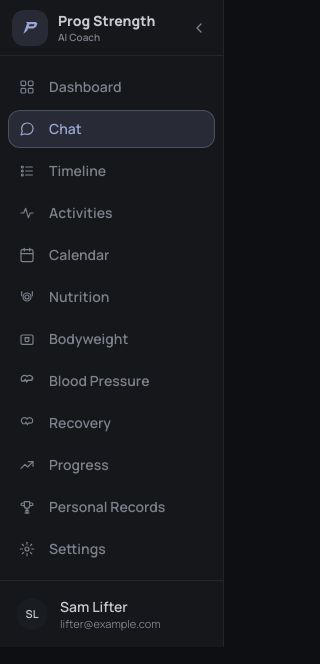
Test case: Sidebar — account anchor › closes the menu on Escape
Click the button with aria-label "Account". click: [112, 614]
box: 8,589 -> 215,639
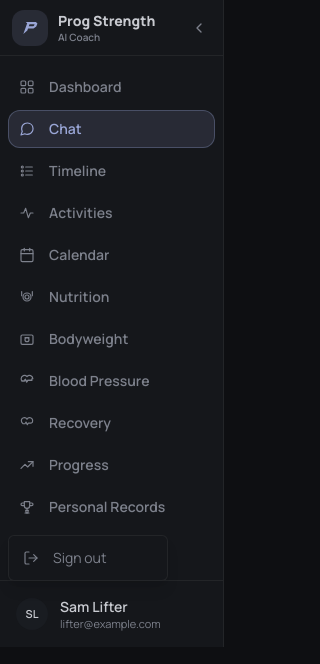
Result: the menu is shown at 8,535 -> 168,581
Press Escape
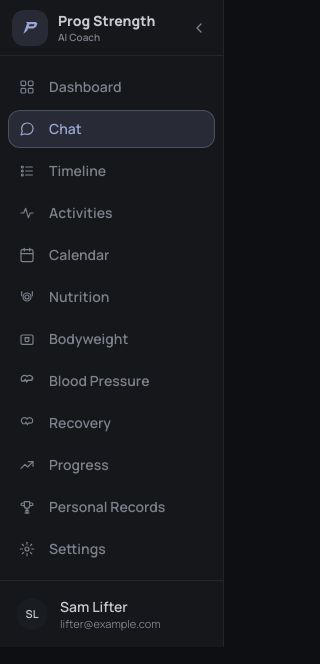
Result: the menu is gone
